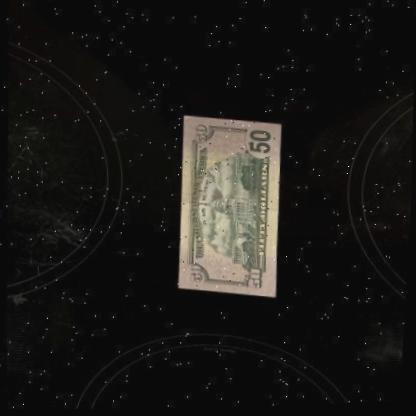fifty-back: (167, 110, 288, 301)
